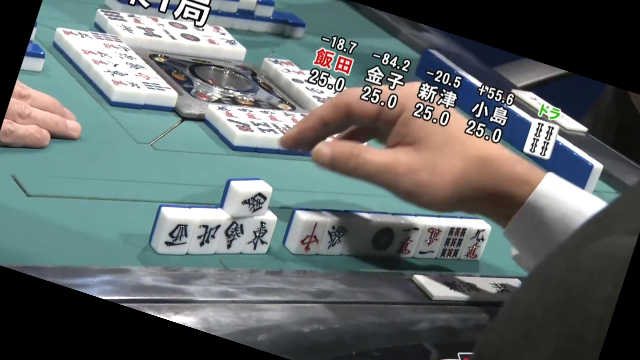Tehai: (144, 196, 488, 261)
